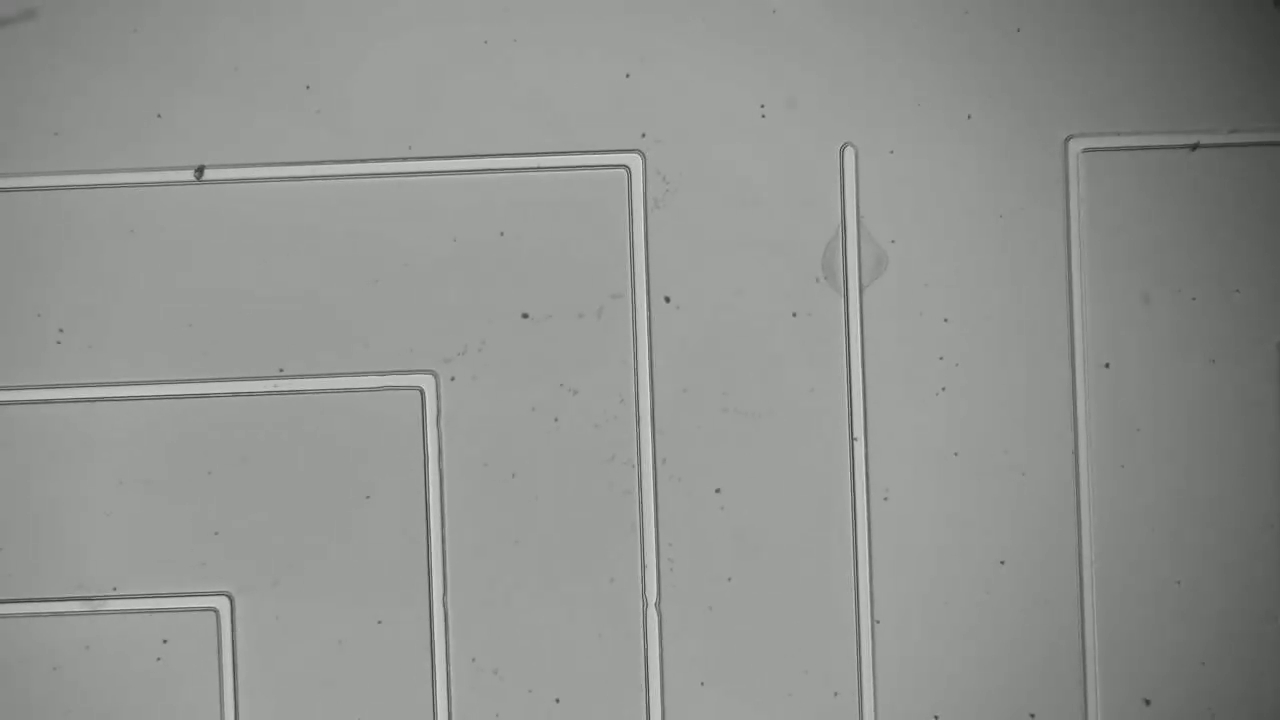edge_bite: (631, 584, 668, 621)
stains_enbedded: (1180, 122, 1215, 161), (185, 158, 215, 193)
